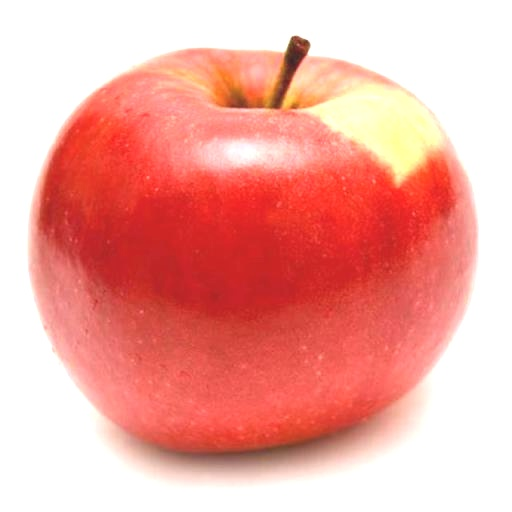fruit: (28, 49, 477, 451)
